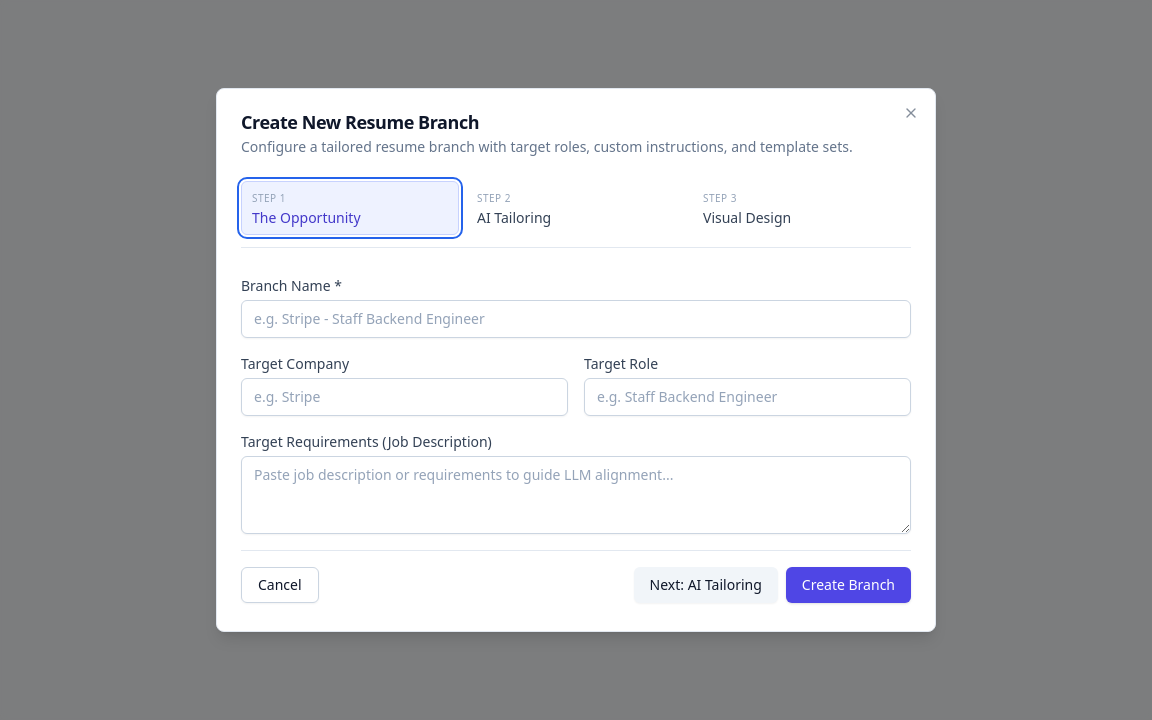
it: CreateBranchModal Component › displays non-default language indicator in option label and preset card badge
The width and height of the screenshot is (1152, 720).
// Fill valid branch name and advance to Step 2
Type "New Spanish Branch" into the field labelled "Branch Name *".
click(576, 319); type("New Spanish Branch")  # box [241, 300, 911, 338]
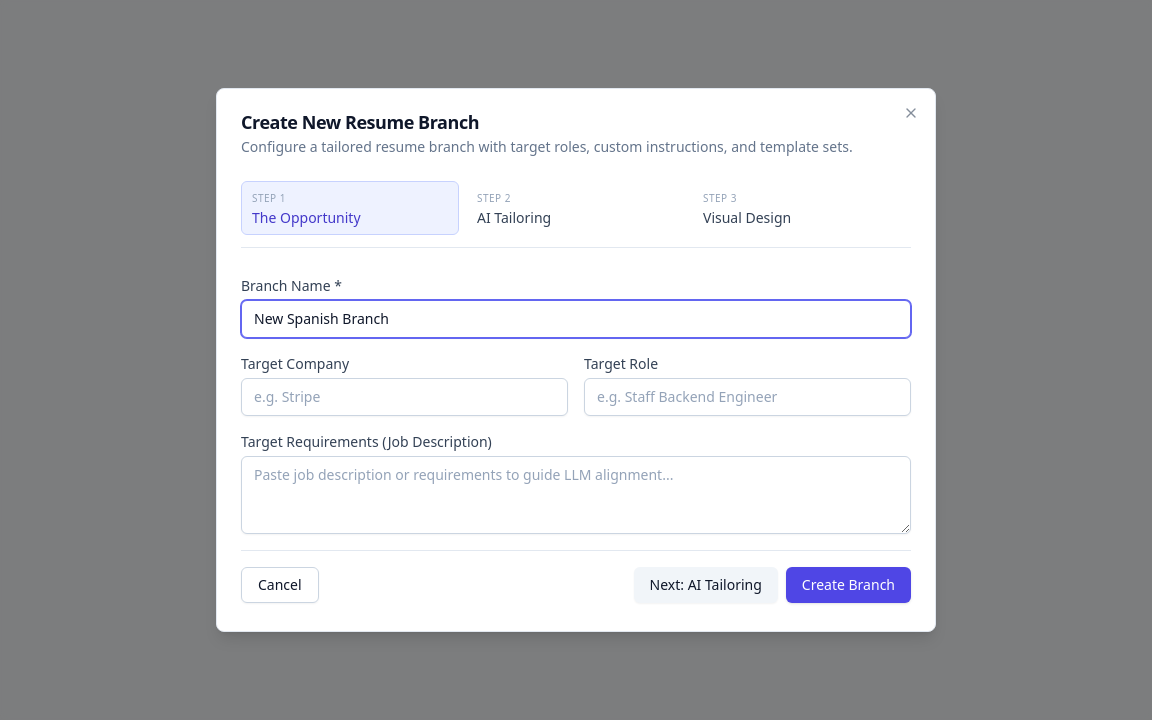
Click the button "Next: AI Tailoring".
click(706, 585)  # box [634, 567, 778, 603]
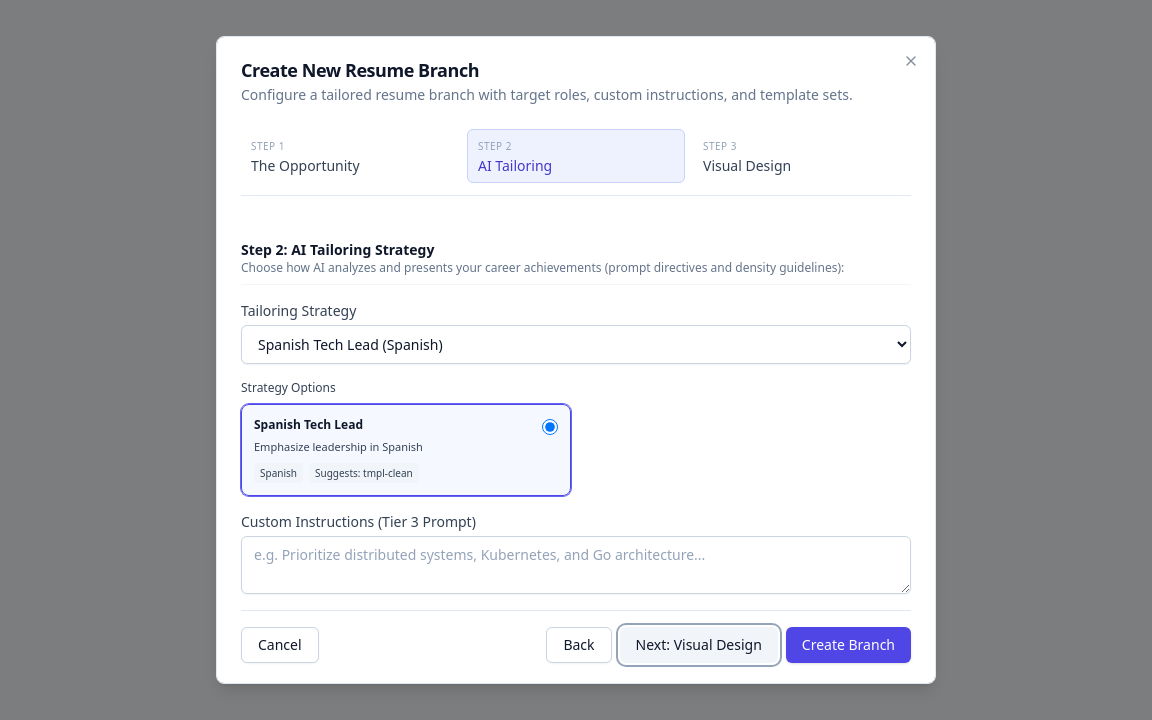
Expected: the text "Spanish Tech Lead" is shown, [254, 417, 363, 433]
Expected: the text "Spanish" is shown, [254, 463, 303, 483]
